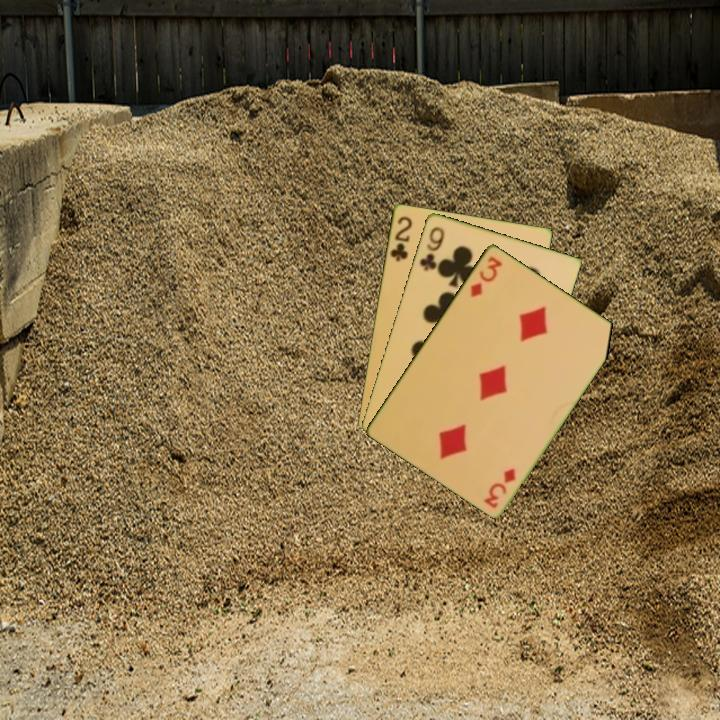2c: (386, 212, 415, 264)
3d: (466, 252, 506, 300), (481, 464, 518, 510)
9c: (416, 223, 447, 273)
